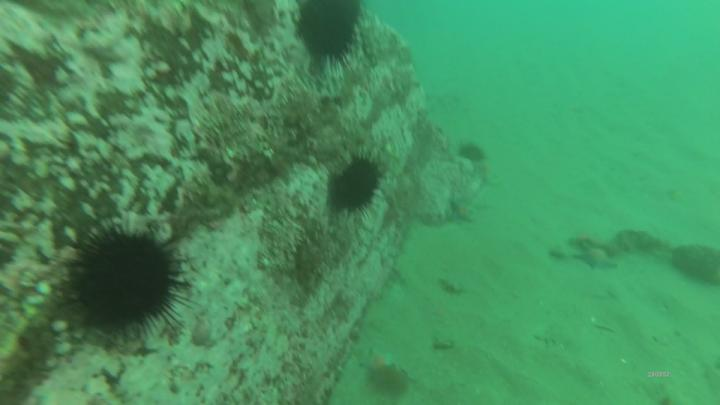echinus: (77, 238, 177, 323), (296, 1, 361, 54), (337, 161, 381, 212), (460, 145, 484, 164)
starfish: (575, 244, 615, 271), (451, 198, 480, 223)
